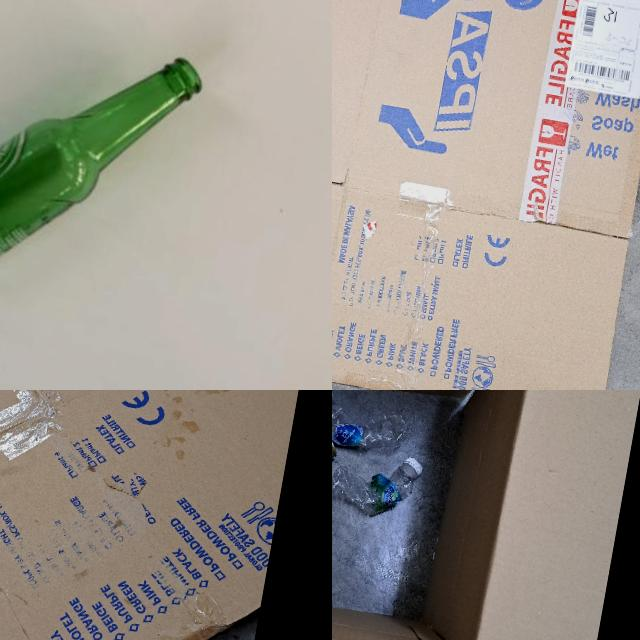garrafa de vidro: (0, 10, 206, 342)
garrafa plástica: (332, 459, 417, 526), (332, 397, 409, 457)
papelão: (332, 0, 640, 390), (0, 390, 332, 640), (332, 390, 640, 640)
tampa plástica: (405, 454, 426, 473)
